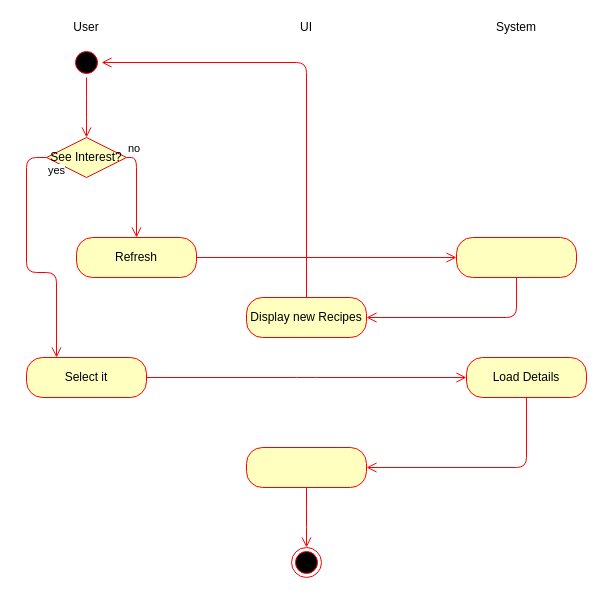
This 604x595 diagram has some shape labels left out. The box of each missing label's shape, as (x1, y1, x2, y2) in pixels:
Display Detailed Recipe: (246, 446, 366, 488)
Get new Recipes based on Lìked Ingredients from API: (456, 236, 576, 278)
